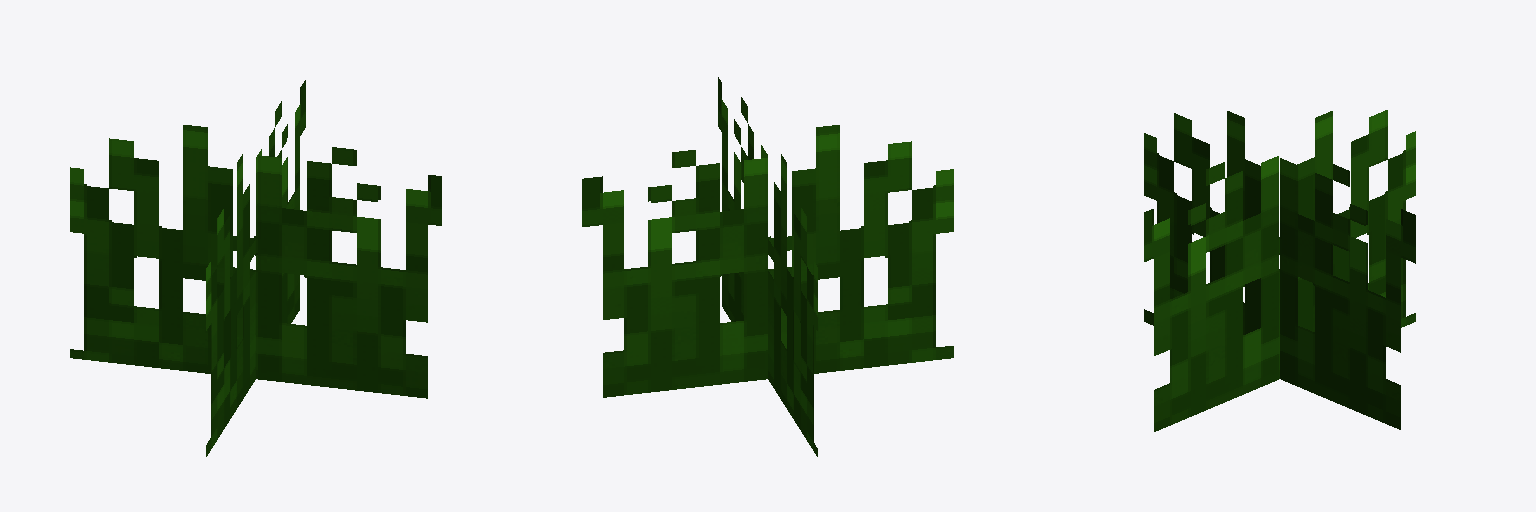
3 views of the same model, side by side, from view 1: azimuth 30°, elevation 25°; view 2: azimuth 150°, elevation 25°; view 3: azimuth 270°, elevation 25° (orthographic).
Visible parts, largest first — view 1: Cube_Cube.001; view 2: Cube_Cube.001; view 3: Cube_Cube.001.
Boxes of the visible parts, box(x1,y1,x2,y2) form: Cube_Cube.001: box(70, 80, 441, 456); Cube_Cube.001: box(582, 77, 953, 456); Cube_Cube.001: box(1144, 110, 1415, 431).
Bounding box in the file's own units: 2 × 2 × 2.
Materials: 1 (1 with a texture image).